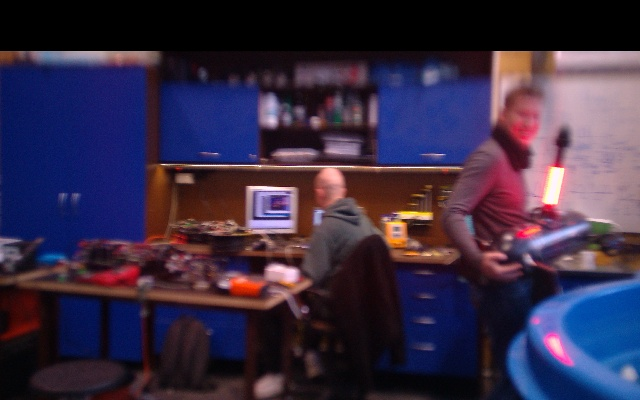red: (542, 164, 566, 209)
